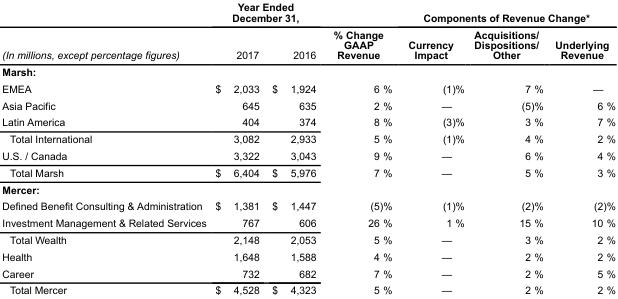table: (1, 1, 614, 295)
table column: (1, 1, 210, 295), (468, 1, 548, 295), (324, 1, 399, 295), (399, 1, 468, 295), (548, 1, 614, 295), (265, 1, 324, 295), (210, 1, 265, 295)
table column header: (1, 1, 614, 63)
table projected row header: (1, 180, 614, 197), (1, 63, 614, 79)
table row: (1, 25, 614, 63), (1, 1, 614, 25), (1, 79, 614, 96), (1, 96, 614, 113), (1, 113, 614, 130), (1, 130, 614, 147), (1, 163, 614, 180), (1, 180, 614, 197), (1, 197, 614, 214), (1, 214, 614, 231), (1, 247, 614, 264), (1, 264, 614, 281), (1, 63, 614, 79), (1, 147, 614, 163), (1, 231, 614, 247), (1, 281, 614, 295)
table spanning cell: (1, 1, 210, 63), (399, 1, 614, 25), (324, 1, 399, 63), (210, 1, 324, 25)
